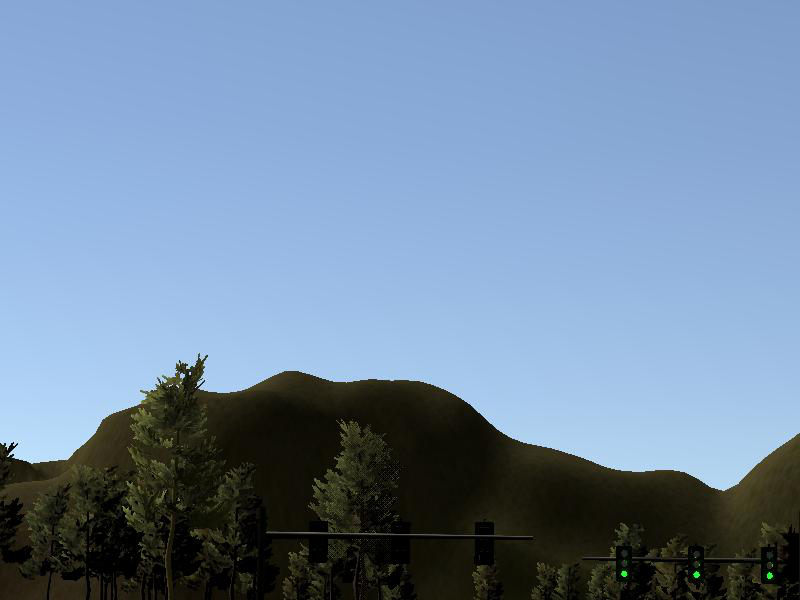green: (760, 547, 778, 585), (616, 544, 633, 580), (688, 544, 703, 582)
